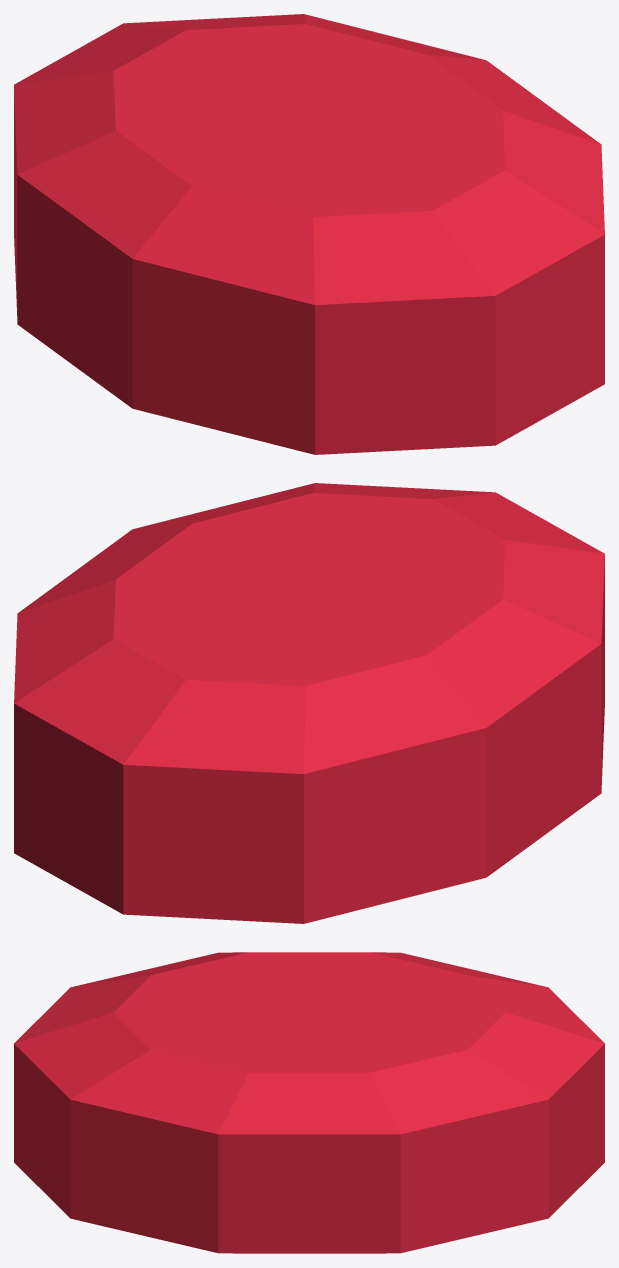
Rendered from blue.glb.
The picture shows the model from 3 angles, top to bottom: view 1: azimuth 30°, elevation 25°; view 2: azimuth 150°, elevation 25°; view 3: azimuth 270°, elevation 25°; orthographic projection. The views are drawn at different scales.
Visible parts, largest first — view 1: Cylinder; view 2: Cylinder; view 3: Cylinder.
Part boxes in pixels (box(x1,y1,x2,y2)): Cylinder: box(14, 14, 604, 454); Cylinder: box(14, 483, 604, 923); Cylinder: box(14, 952, 604, 1253).
Size of the model in its own units: 0.6876 by 0.3195 by 0.9454.
